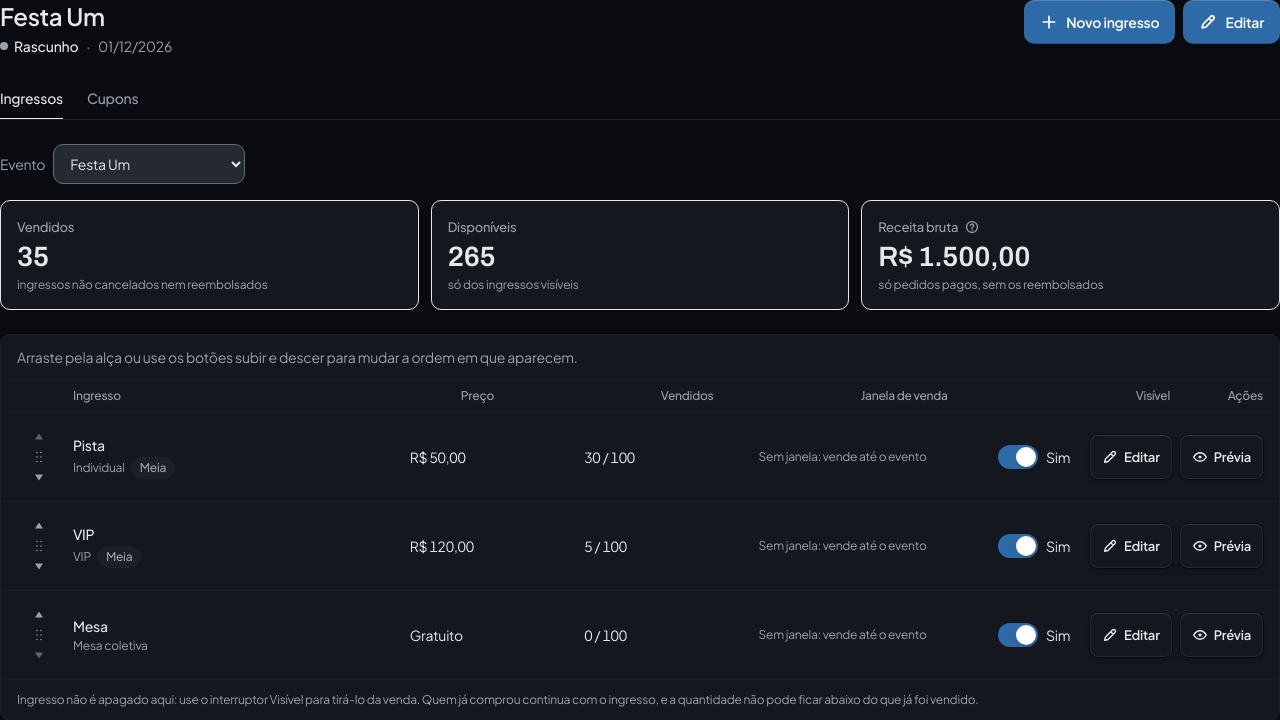
Test: tela Ingressos › Esc fecha o modal sem gravar
Click the button "Novo ingresso" at (1100, 22), box left=1024, top=0, right=1175, bottom=44
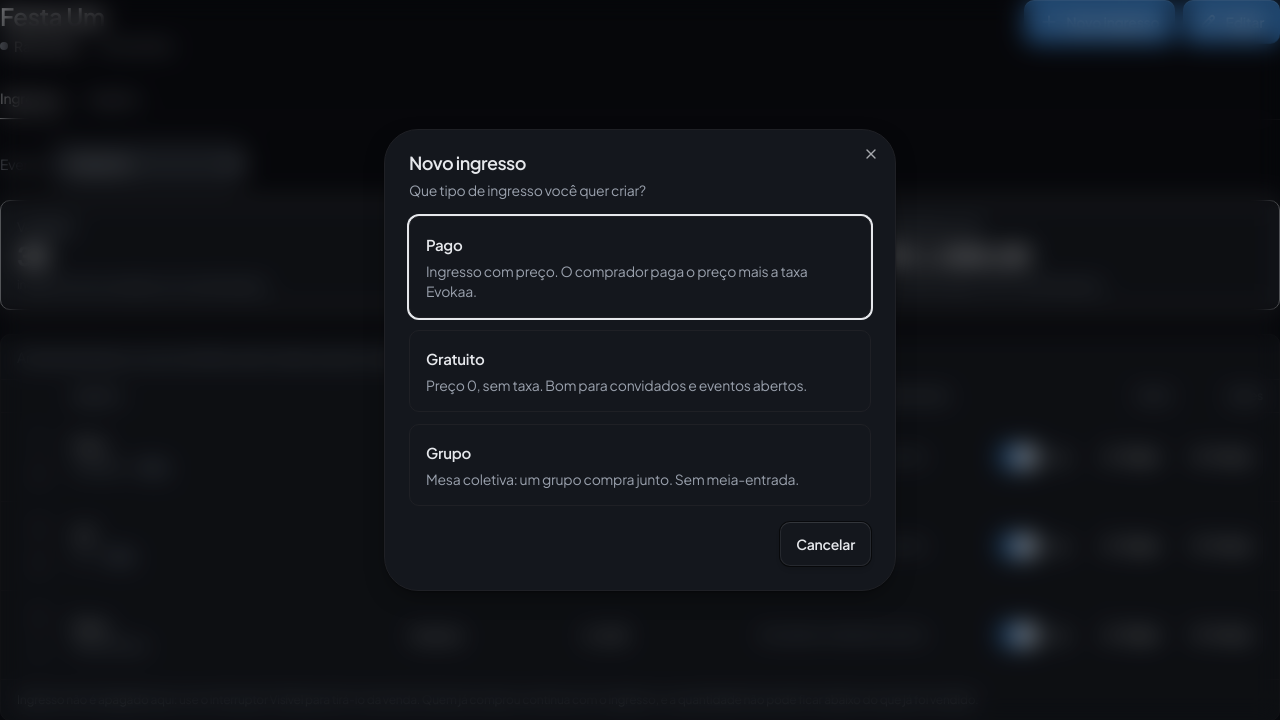
Check: the dialog is shown, box left=384, top=129, right=896, bottom=591
Press Escape
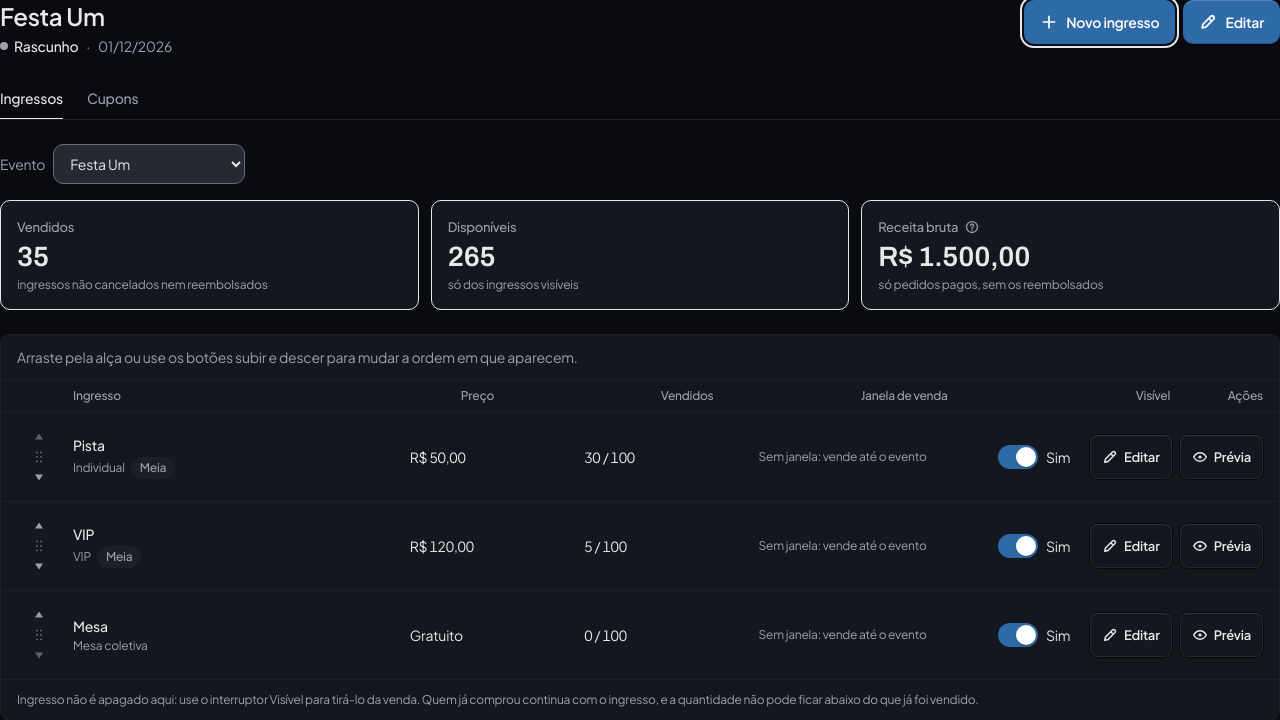
Check: the dialog is gone
